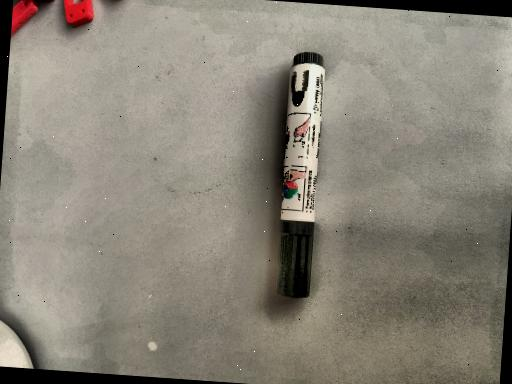marcador negro: (276, 53, 325, 298)
